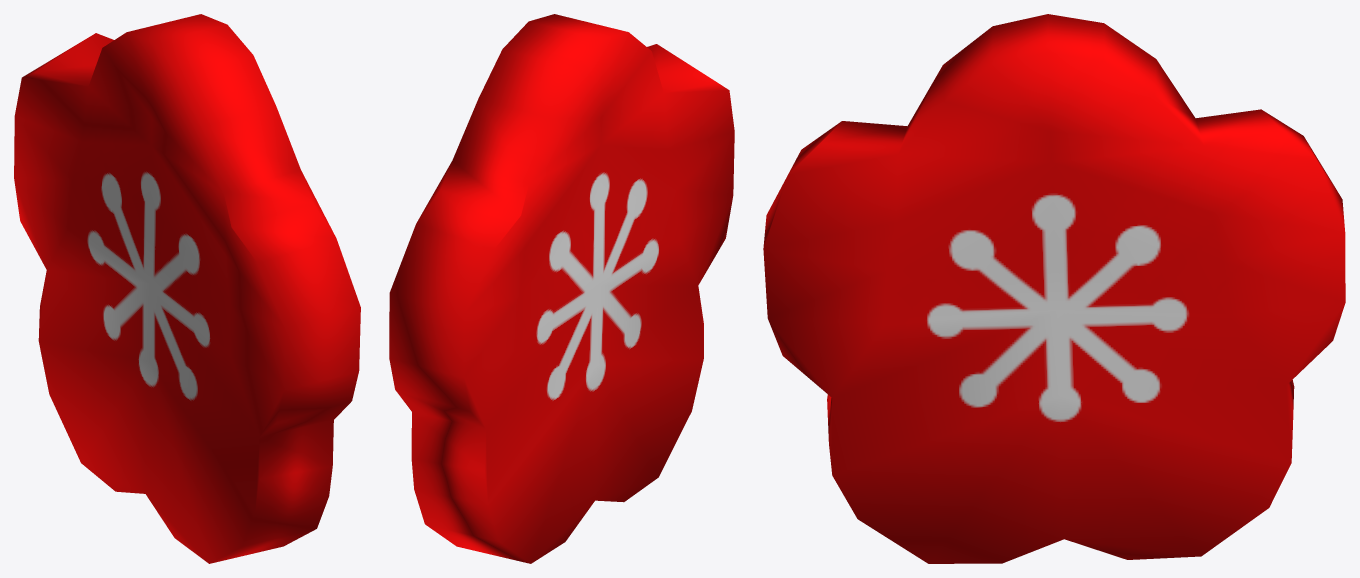
Rendered from hana2.fbx.
3 views of the same model, side by side, from view 1: azimuth 30°, elevation 25°; view 2: azimuth 150°, elevation 25°; view 3: azimuth 270°, elevation 25° (orthographic). The views are drawn at different scales.
Parts seen in each view (by area): view 1: pasted__pasted__polySurface1; view 2: pasted__pasted__polySurface1; view 3: pasted__pasted__polySurface1.
Part boxes in pixels (<box>): pasted__pasted__polySurface1: <box>14,14,360,563</box>; pasted__pasted__polySurface1: <box>389,14,734,563</box>; pasted__pasted__polySurface1: <box>763,14,1345,563</box>.
Size of the model in its own units: 0.3571 by 1.68 by 1.73.
Materials: 1 (1 with a texture image).
